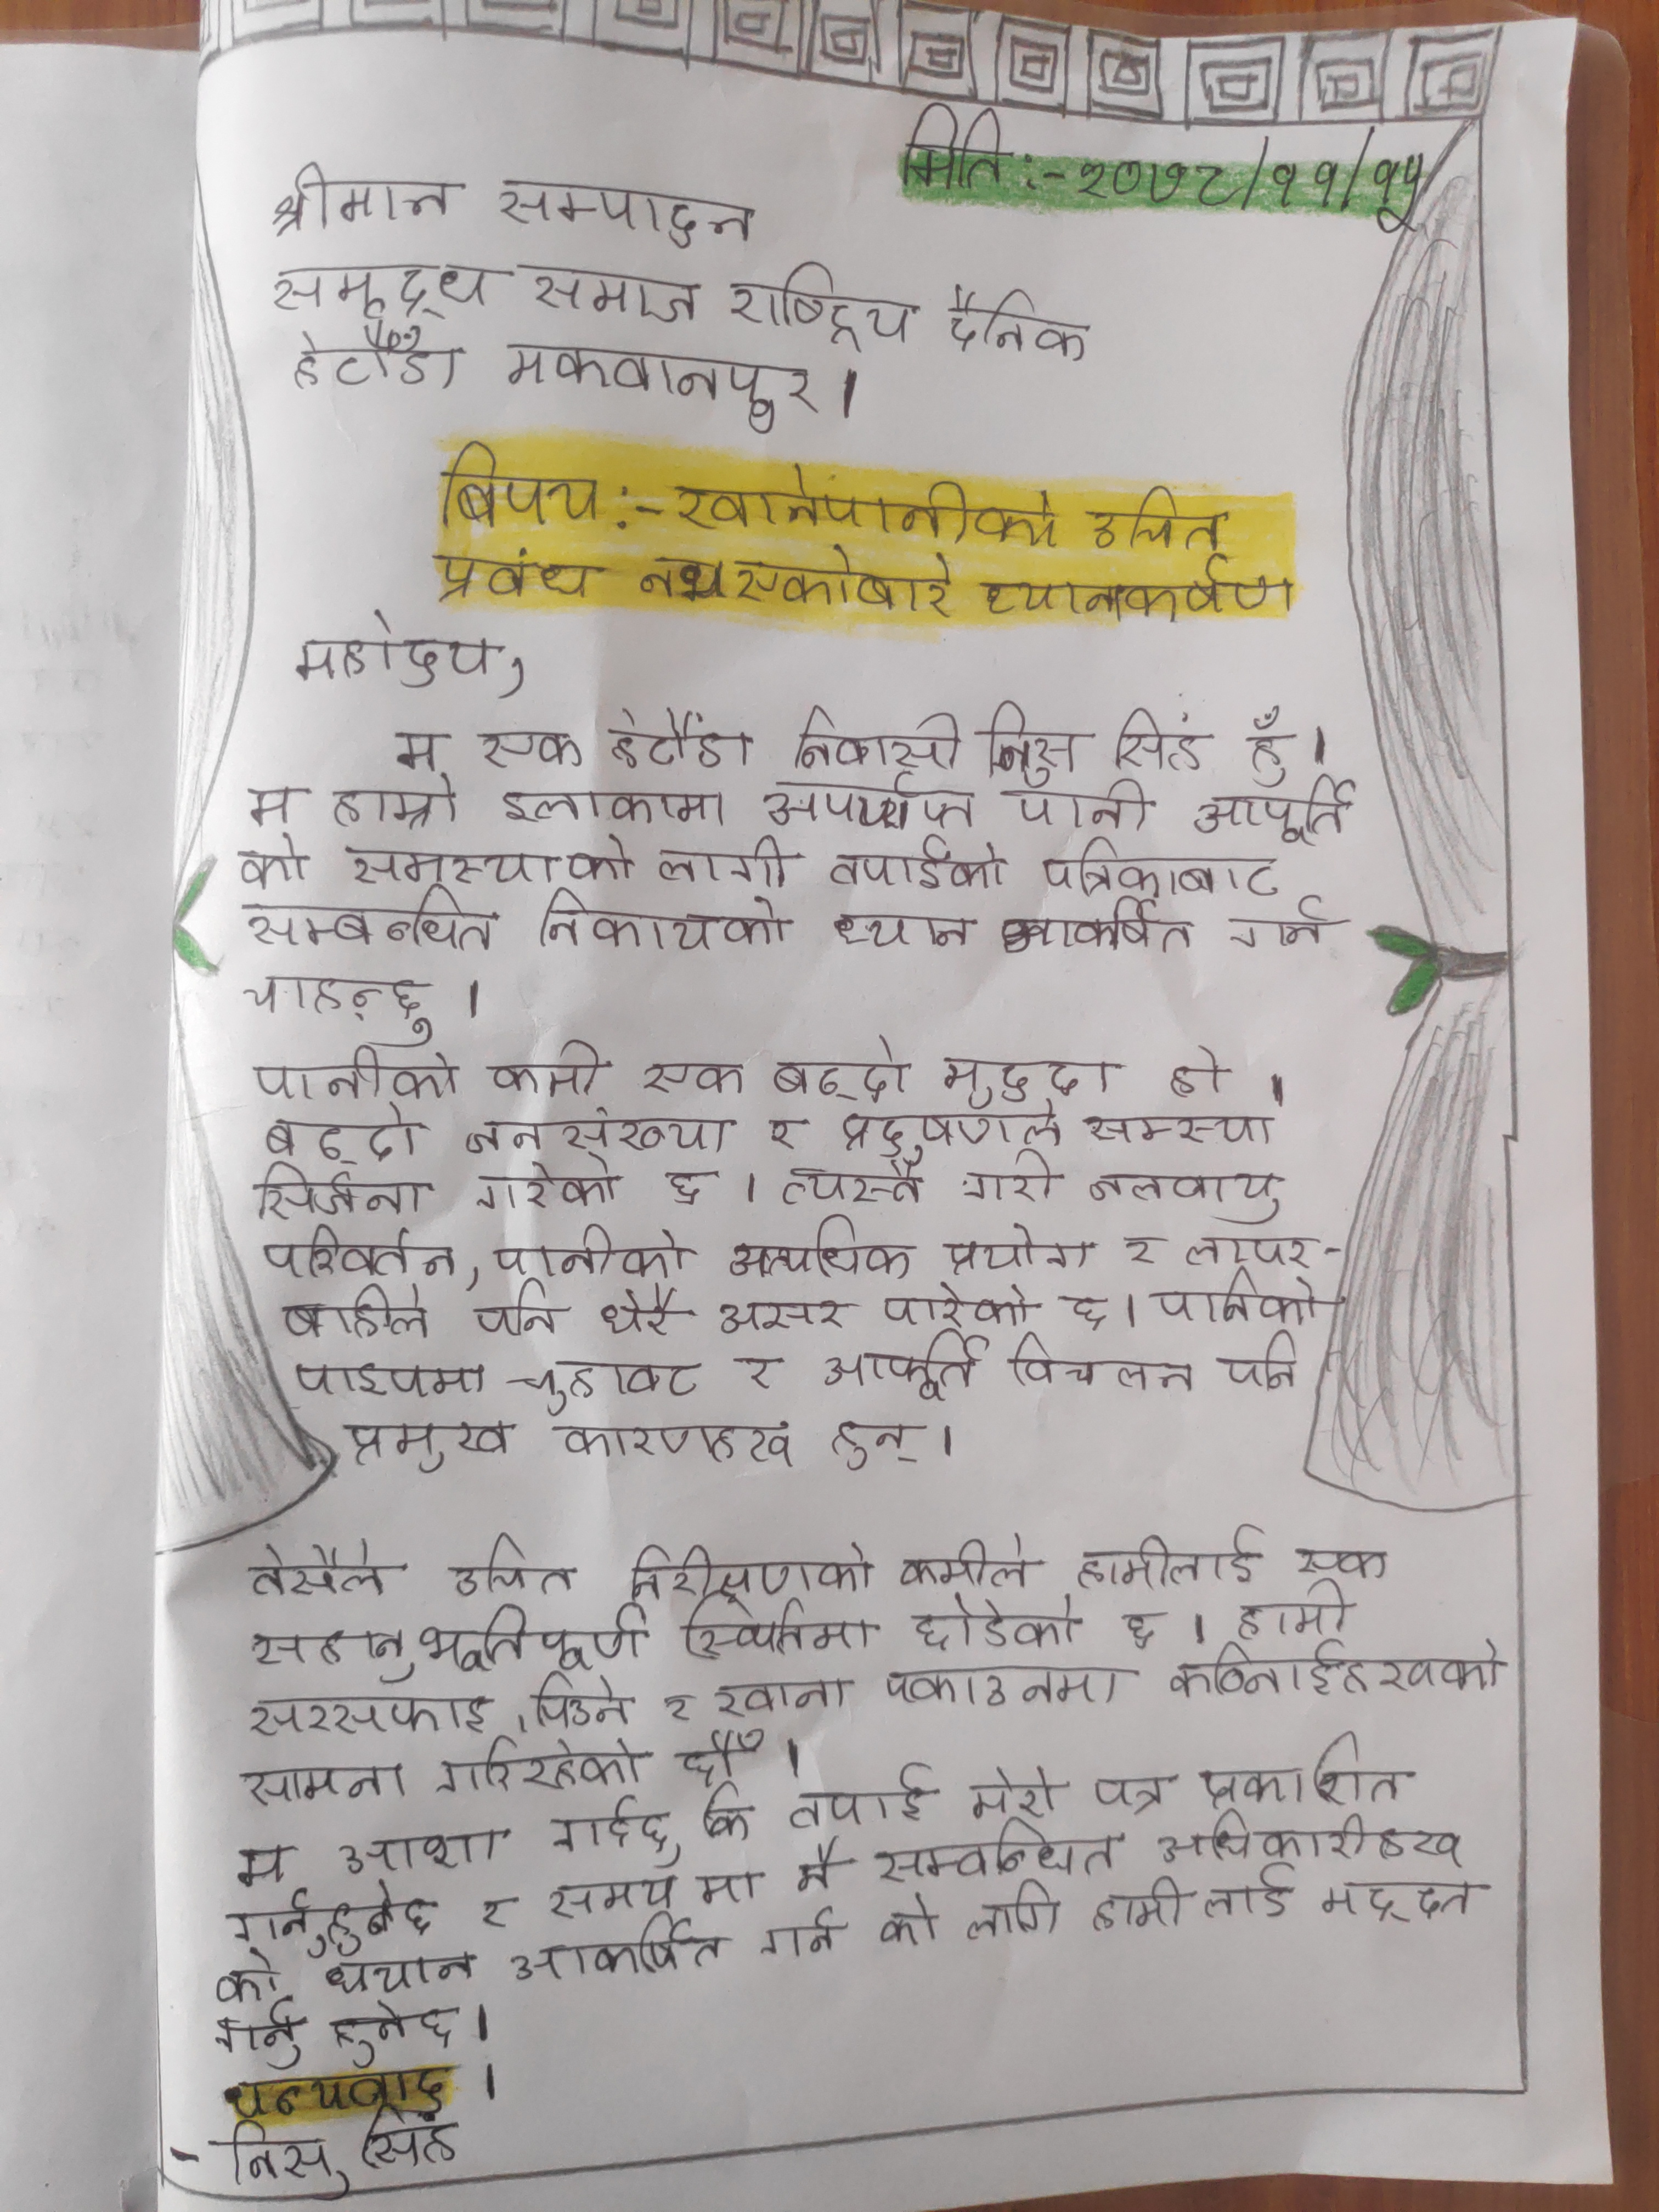text: (673, 456, 1066, 549), (1072, 136, 1432, 235), (490, 333, 826, 434), (633, 540, 958, 624), (483, 174, 765, 258), (1162, 1634, 1509, 1700), (976, 559, 1298, 629), (721, 261, 922, 355), (338, 831, 641, 892), (1154, 1811, 1478, 1867), (1199, 1730, 1415, 1811), (1032, 834, 1279, 904), (237, 892, 511, 954), (547, 1407, 798, 1475), (291, 610, 504, 690), (871, 1827, 1127, 1893), (537, 892, 791, 958), (436, 439, 606, 536), (261, 162, 460, 244), (418, 1601, 655, 1669), (282, 319, 474, 402), (622, 1541, 880, 1602), (221, 1885, 439, 1956), (258, 256, 505, 319), (242, 970, 436, 1050), (505, 1919, 727, 1989), (836, 1094, 1068, 1160), (1086, 1869, 1298, 1939), (748, 772, 979, 834), (237, 1684, 497, 1740), (720, 1211, 917, 1284), (674, 1594, 880, 1662), (213, 2064, 455, 2121), (498, 779, 734, 836), (817, 833, 1021, 899), (788, 695, 964, 772), (535, 1865, 769, 1921), (457, 1111, 730, 1158), (1079, 1165, 1290, 1226), (509, 1353, 708, 1418), (528, 258, 702, 331), (1002, 1339, 1204, 1402), (936, 1042, 1115, 1111), (427, 542, 601, 613), (251, 1052, 474, 1108), (936, 287, 1093, 366), (491, 1219, 687, 1282), (1073, 1526, 1258, 1592), (995, 902, 1201, 961), (432, 1740, 655, 1794), (904, 1592, 1091, 1656), (1314, 1867, 1485, 1937), (218, 2121, 356, 2207), (1087, 481, 1230, 563), (244, 1160, 425, 1224), (868, 1663, 1129, 1707), (606, 702, 755, 779), (890, 101, 1011, 195), (291, 1350, 497, 1404), (816, 1334, 983, 1400), (240, 1531, 399, 1601), (335, 1813, 511, 1876), (1188, 782, 1366, 843), (258, 1226, 457, 1280), (650, 829, 798, 900), (326, 1414, 514, 1470), (232, 1747, 408, 1806), (1147, 1270, 1328, 1327), (1080, 1103, 1279, 1155), (319, 1998, 464, 2069), (779, 1763, 934, 1829), (821, 904, 993, 963), (263, 1101, 422, 1163), (772, 1036, 910, 1108), (251, 1629, 416, 1688), (272, 1285, 430, 1346), (312, 1940, 476, 1998), (979, 697, 1087, 784), (467, 1155, 629, 1212), (1012, 779, 1164, 840), (448, 1531, 579, 1599), (875, 1280, 1033, 1334), (484, 1040, 606, 1108), (941, 1224, 1094, 1278), (897, 1529, 1032, 1590), (538, 1796, 673, 1857), (328, 773, 465, 833), (361, 2099, 462, 2174), (1227, 1581, 1351, 1642), (1110, 702, 1208, 779), (525, 1663, 640, 1726), (202, 2008, 312, 2073), (709, 1294, 854, 1343), (769, 1160, 927, 1204), (823, 1414, 927, 1479), (962, 1885, 1068, 1947), (709, 1672, 856, 1717), (953, 1150, 1060, 1209), (1213, 1329, 1305, 1397), (1185, 1226, 1323, 1271), (962, 1763, 1063, 1824), (1079, 1761, 1178, 1820), (476, 721, 586, 773), (1222, 900, 1337, 949), (467, 1284, 561, 1343), (640, 1054, 756, 1097), (601, 1282, 683, 1343), (868, 1893, 950, 1952), (690, 1784, 765, 1848), (204, 1947, 281, 2010), (758, 1909, 836, 1970), (1237, 704, 1293, 789), (235, 836, 308, 894), (784, 1836, 852, 1897), (676, 1733, 760, 1782), (1290, 1540, 1385, 1580), (1162, 1043, 1227, 1099), (230, 1832, 293, 1888), (392, 714, 444, 775), (237, 784, 305, 826), (732, 1346, 793, 1390), (758, 1104, 807, 1158), (1115, 1604, 1169, 1651), (660, 1169, 709, 1219), (1066, 1292, 1114, 1339), (469, 1893, 518, 1937), (655, 1683, 706, 1724), (1114, 1231, 1161, 1273)
